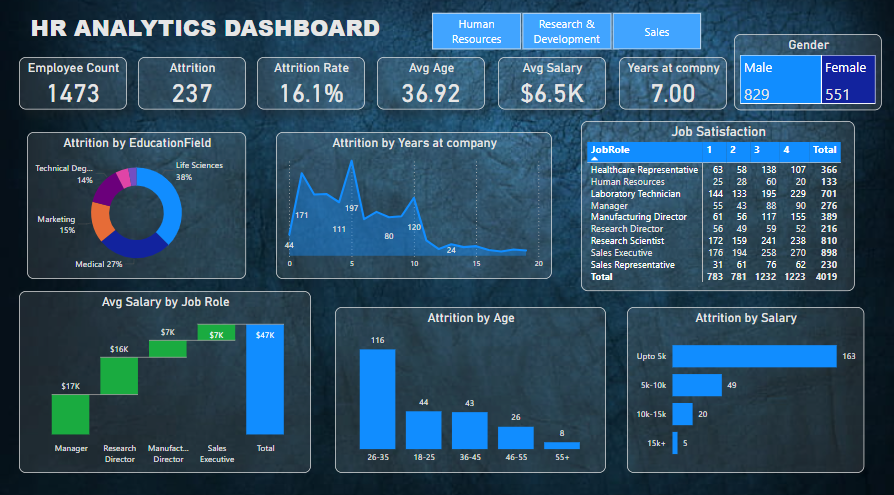

What the dashboard file says about the page in this screenshot:
{"tool":"powerbi","page":{"name":"Page 1","canvas":[1280,720],"ordinal":0},"visuals":[{"type":"card","title":"Employee Count","fields":{"Values":["Sum(HR_Analytics.EmployeeCount)"]},"box":[28.8,82.5,153.8,75],"z":0},{"type":"card","title":"Attrition","fields":{"Values":["Sum(HR_Analytics.AttritionCount)"]},"box":[198.8,82.5,153.8,75],"z":1000},{"type":"card","title":"Attrition Rate","fields":{"Values":["HR_Analytics.attritionRate"]},"box":[368.8,82.5,153.8,75],"z":2000},{"type":"card","title":"Avg Age","fields":{"Values":["Avg(HR_Analytics.Age)"]},"box":[540,82.5,153.8,75],"z":3000},{"type":"card","title":"Avg Salary","fields":{"Values":["Avg(HR_Analytics.MonthlyIncome)"]},"box":[712.5,82.5,153.8,75],"z":4000},{"type":"card","title":"Years at  compny","fields":{"Values":["Avg(HR_Analytics.YearsAtCompany)"]},"box":[886.2,82.5,153.8,75],"z":5000},{"type":"donutChart","title":"Attrition by EducationField","fields":{"Y":["Sum(HR_Analytics.AttritionCount)"],"Category":["HR_Analytics.EducationField"]},"box":[40,190,312.9,210],"z":6000},{"type":"columnChart","title":"Attrition by Age","fields":{"Category":["HR_Analytics.AgeGroup"],"Y":["Sum(HR_Analytics.AttritionCount)"]},"box":[480,440,387.1,237.1],"z":7000},{"type":"pivotTable","title":"Job Satisfaction","fields":{"Rows":["HR_Analytics.JobRole"],"Columns":["HR_Analytics.EnvironmentSatisfaction"],"Values":["Sum(HR_Analytics.JobSatisfaction)"]},"box":[831.4,174.3,391.4,242.9],"z":8000},{"type":"barChart","title":"Attrition by Salary","fields":{"Category":["HR_Analytics.SalarySlab"],"Y":["Sum(HR_Analytics.AttritionCount)"]},"box":[897.1,440,338.6,237.1],"z":9000},{"type":"waterfallChart","title":"Avg Salary by Job Role","fields":{"Category":["HR_Analytics.JobRole"],"Y":["Avg(HR_Analytics.MonthlyIncome)"]},"box":[28.6,417.1,417.1,260],"z":10000},{"type":"stackedAreaChart","title":"Attrition by Years at company","fields":{"Category":["HR_Analytics.YearsAtCompany"],"Y":["CountNonNull(HR_Analytics.AttritionCount)"]},"box":[395.7,190,394.3,210],"z":11000},{"type":"textbox","box":[40,12.9,534.3,55.7],"z":12000},{"type":"treemap","title":"Gender","fields":{"Group":["HR_Analytics.Gender"],"Values":["CountNonNull(HR_Analytics.AttritionCount)"]},"box":[1050,50,211.4,108.6],"z":13000},{"type":"slicer","fields":{"Values":["HR_Analytics.Department"]},"box":[592.9,12.9,434.3,58.6],"z":14000}]}

Visuals, with their boxes in screenshot pixels (x1, y1, x2, y2), scaled from the page's 1280x720 canvas onto the 894x495 screenshot:
"Employee Count" card: select_region(20, 57, 128, 108)
"Attrition" card: select_region(139, 57, 246, 108)
"Attrition Rate" card: select_region(258, 57, 365, 108)
"Avg Age" card: select_region(377, 57, 485, 108)
"Avg Salary" card: select_region(498, 57, 605, 108)
"Years at  compny" card: select_region(619, 57, 726, 108)
"Attrition by EducationField" donutChart: select_region(28, 131, 246, 275)
"Attrition by Age" columnChart: select_region(335, 302, 606, 466)
"Job Satisfaction" pivotTable: select_region(581, 120, 854, 287)
"Attrition by Salary" barChart: select_region(627, 302, 863, 466)
"Avg Salary by Job Role" waterfallChart: select_region(20, 287, 311, 466)
"Attrition by Years at company" stackedAreaChart: select_region(276, 131, 552, 275)
textbox: select_region(28, 9, 401, 47)
"Gender" treemap: select_region(733, 34, 881, 109)
slicer - HR_Analytics.Department: select_region(414, 9, 717, 49)
